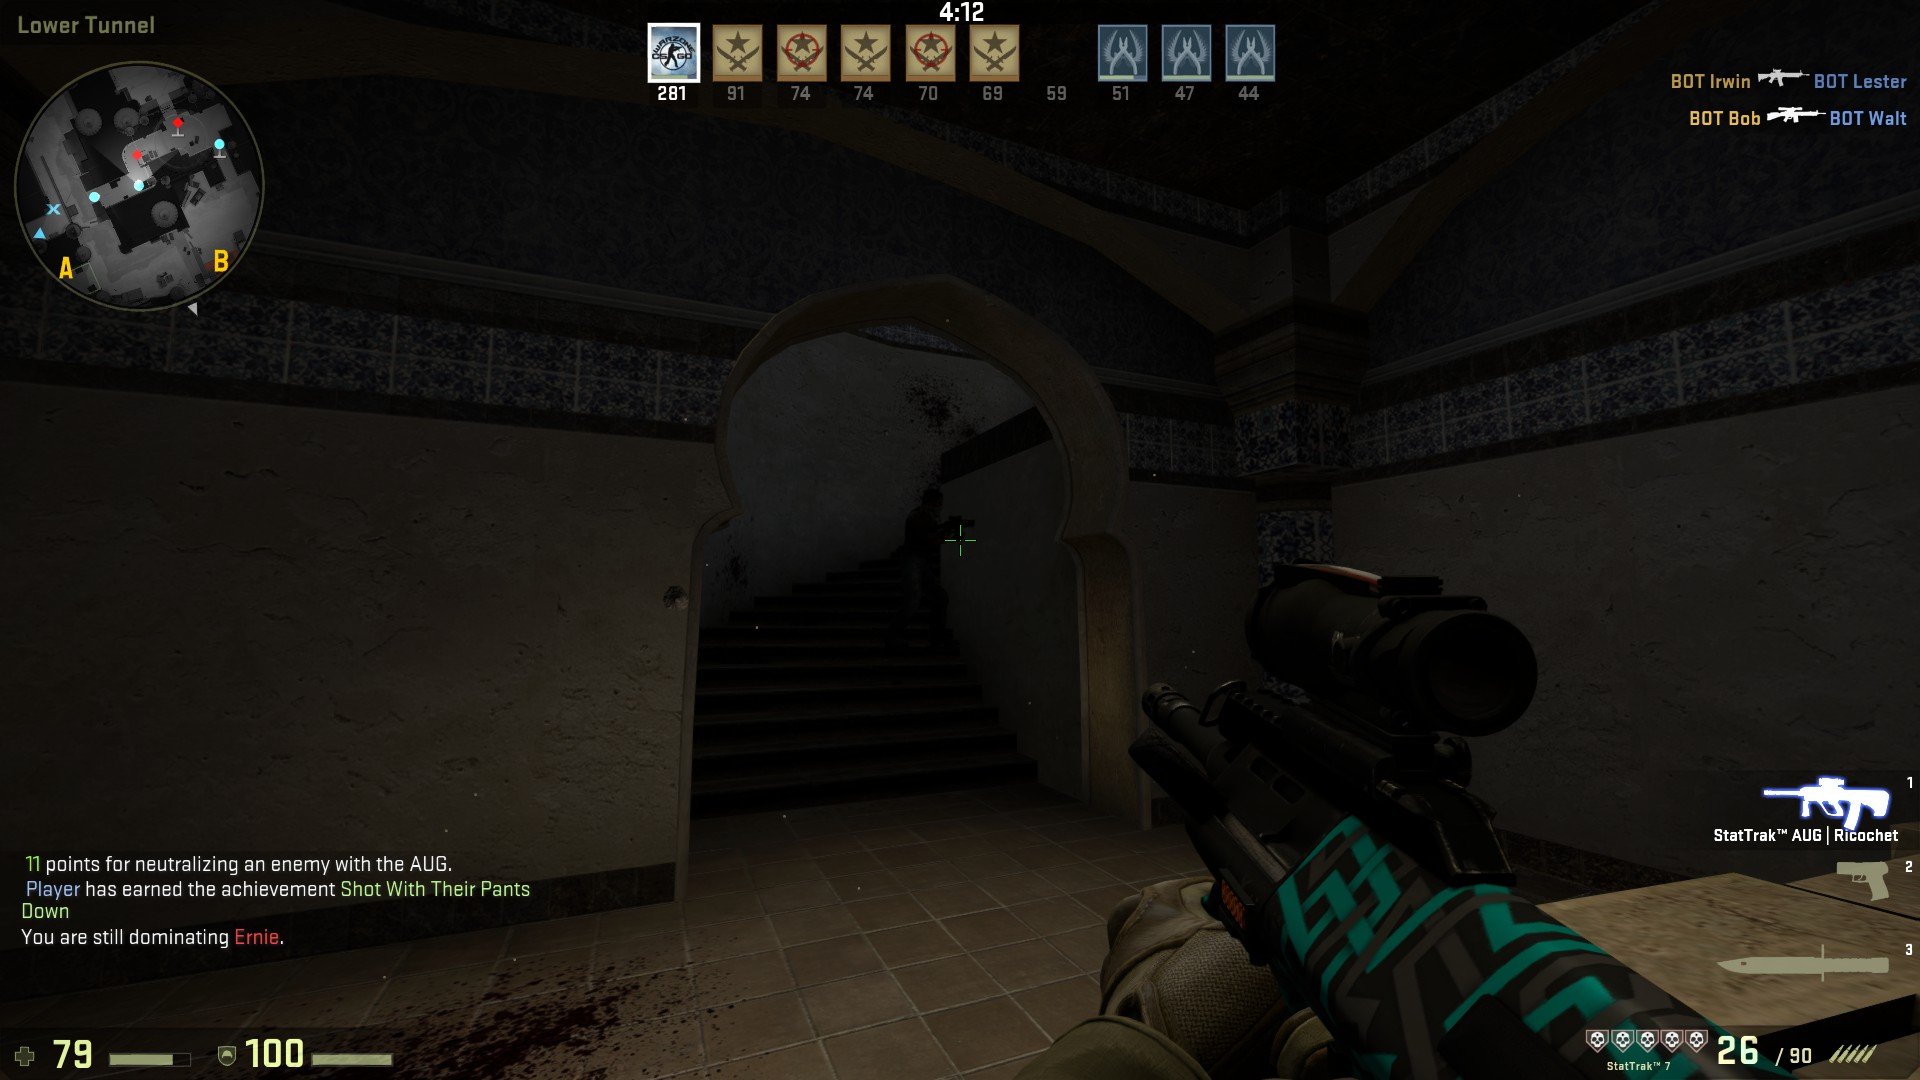t: (889, 487, 949, 655)
th: (916, 488, 949, 518)
